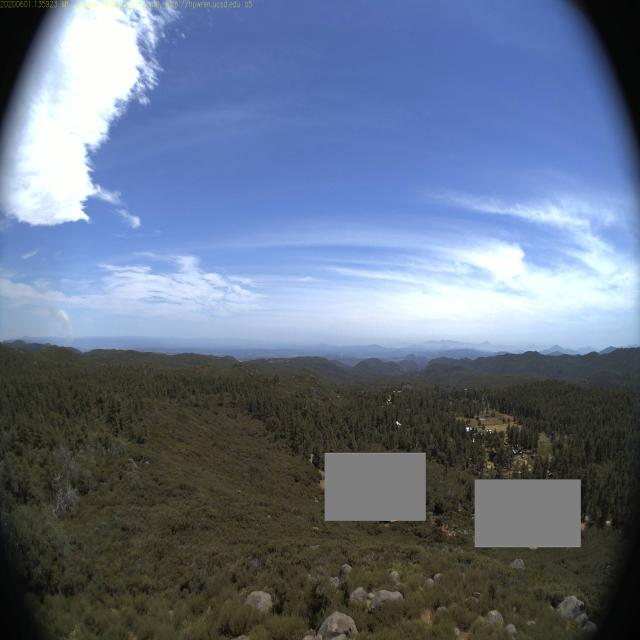smoke: (46, 298, 76, 347)
